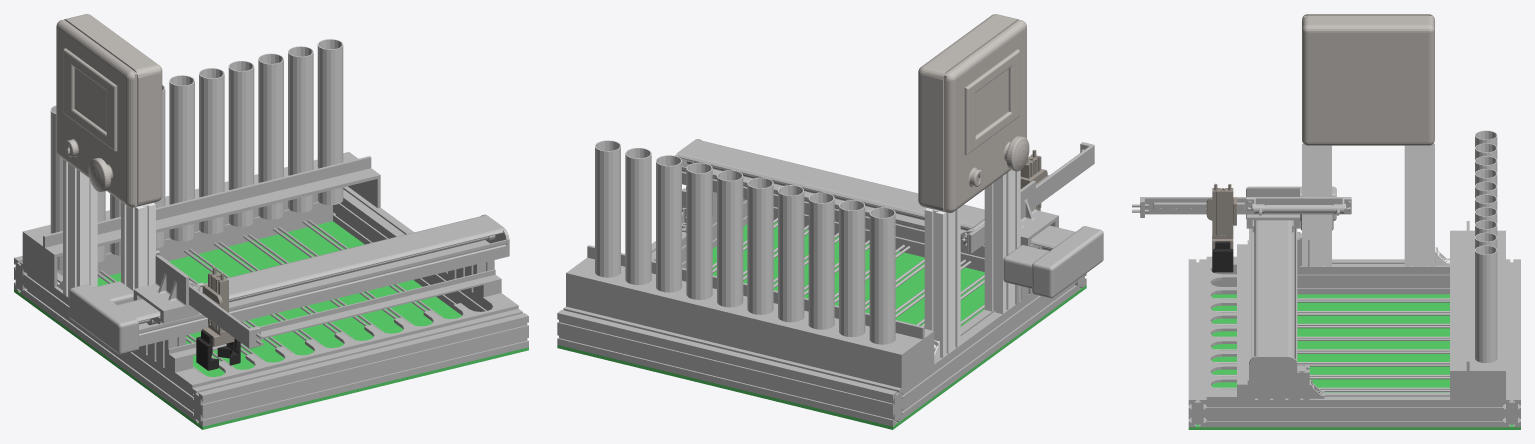
Rendered from box_load_site.dae.
3 renders of one model, left to right at view 1: azimuth 30°, elevation 25°; view 2: azimuth 150°, elevation 25°; view 3: azimuth 270°, elevation 25°, orthographic. The views are drawn at different scales.
Parts seen in each view (by area): view 1: loadbox, tong, loadboxbase1, loadboxbase3, loadboxbase, loadboxbase2, Empty_Link, LBJ1, BASE1, LBJ2, LBJ41; view 2: tong, loadbox, loadboxbase3, loadboxbase1, loadboxbase2, loadboxbase, Empty_Link, BASE1, LBJ1, LBJ2; view 3: loadbox, loadboxbase3, loadboxbase, loadboxbase1, loadboxbase2, Empty_Link, tong, BASE1, LBJ2, LBJ1, LBJ42.
Part boxes in pixels (bbox=[...]): loadbox: bbox=[14, 186, 528, 426]; tong: bbox=[50, 39, 343, 270]; loadboxbase1: bbox=[22, 152, 518, 388]; loadboxbase3: bbox=[56, 14, 162, 207]; loadboxbase: bbox=[14, 221, 528, 429]; loadboxbase2: bbox=[57, 159, 155, 297]; Empty_Link: bbox=[61, 208, 443, 375]; LBJ1: bbox=[133, 255, 199, 325]; BASE1: bbox=[156, 250, 263, 348]; LBJ2: bbox=[201, 267, 228, 331]; LBJ41: bbox=[196, 329, 218, 370]; tong: bbox=[595, 140, 895, 344]; loadbox: bbox=[557, 139, 1103, 426]; loadboxbase3: bbox=[918, 14, 1029, 213]; loadboxbase1: bbox=[566, 245, 934, 388]; loadboxbase2: bbox=[924, 170, 1020, 360]; loadboxbase: bbox=[557, 221, 1086, 429]; Empty_Link: bbox=[712, 207, 984, 326]; BASE1: bbox=[960, 142, 1094, 253]; LBJ1: bbox=[1020, 180, 1058, 250]; LBJ2: bbox=[1020, 150, 1048, 210]; loadbox: bbox=[1188, 186, 1520, 427]; loadboxbase3: bbox=[1302, 14, 1434, 145]; loadboxbase: bbox=[1188, 294, 1520, 429]; loadboxbase1: bbox=[1206, 221, 1505, 399]; loadboxbase2: bbox=[1302, 140, 1449, 266]; Empty_Link: bbox=[1214, 298, 1449, 391]; tong: bbox=[1475, 130, 1497, 362]; BASE1: bbox=[1132, 197, 1351, 217]; LBJ2: bbox=[1206, 183, 1236, 235]; LBJ1: bbox=[1246, 187, 1299, 232]; LBJ42: bbox=[1212, 241, 1233, 272].
Bounding box in the file's own units: 1.32 × 1.29 × 1.
